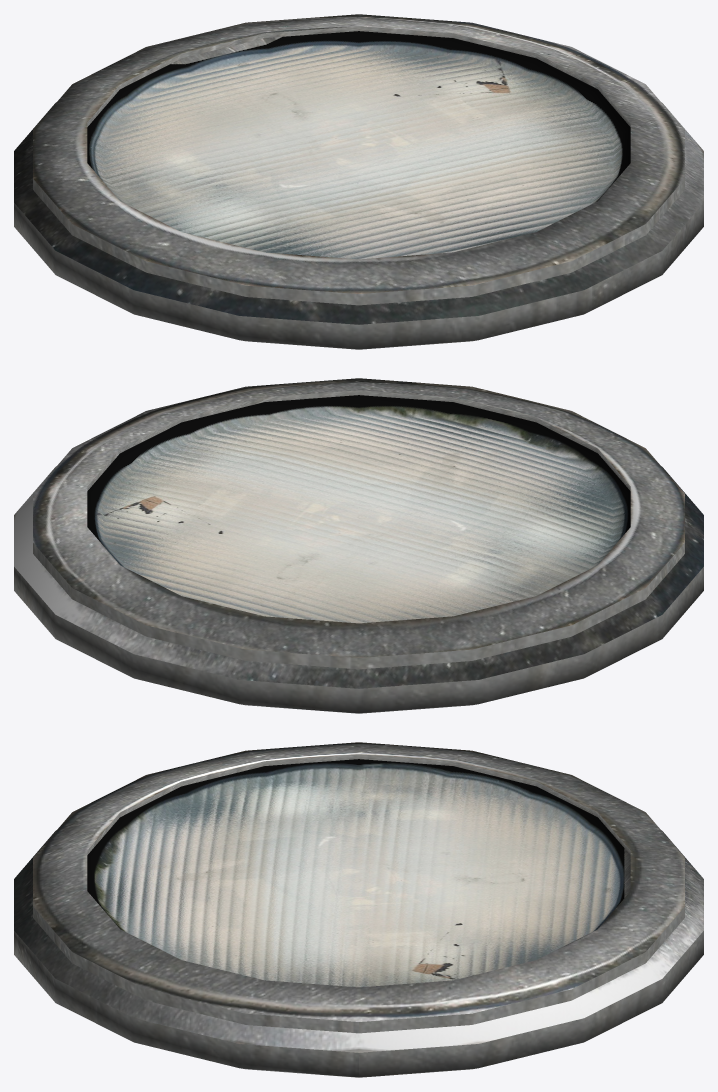
The model's file is Light.FBX.
3 renders of one model, top to bottom at view 1: azimuth 30°, elevation 25°; view 2: azimuth 150°, elevation 25°; view 3: azimuth 270°, elevation 25°, orthographic.
Parts seen in each view (by area): view 1: Light; view 2: Light; view 3: Light.
Boxes of the visible parts, <box> form: Light: <box>14,14,703,349</box>; Light: <box>14,378,703,713</box>; Light: <box>14,742,703,1077</box>.
Size of the model in its own units: 63.49 by 6.7 by 62.52.
